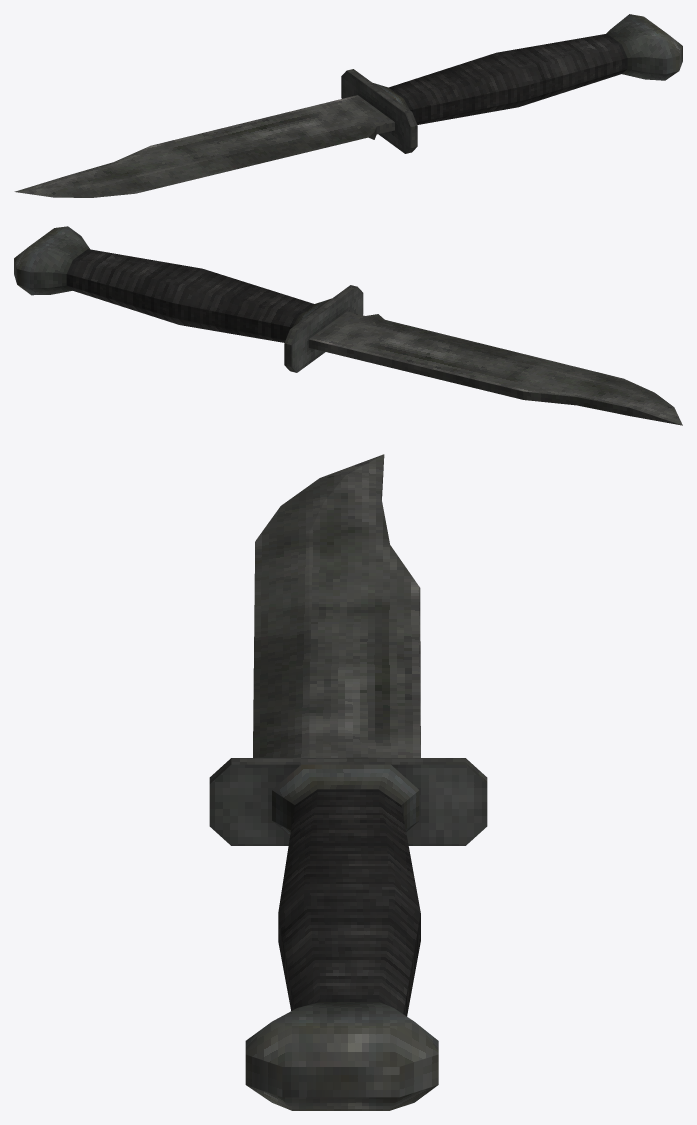
Rendered from knife_mp_1_1.glb.
3 renders of one model, top to bottom at view 1: azimuth 30°, elevation 25°; view 2: azimuth 150°, elevation 25°; view 3: azimuth 270°, elevation 25°, orthographic. The views are drawn at different scales.
Visible parts, largest first — view 1: knife_mp_1_1; view 2: knife_mp_1_1; view 3: knife_mp_1_1.
Part boxes in pixels (x1,y1,x2,y2): knife_mp_1_1: (14, 14, 682, 197); knife_mp_1_1: (14, 226, 682, 425); knife_mp_1_1: (209, 454, 487, 1110).
Size of the model in its own units: 0.4384 by 0.0264 by 0.0819.
1 material, 1 textured.
